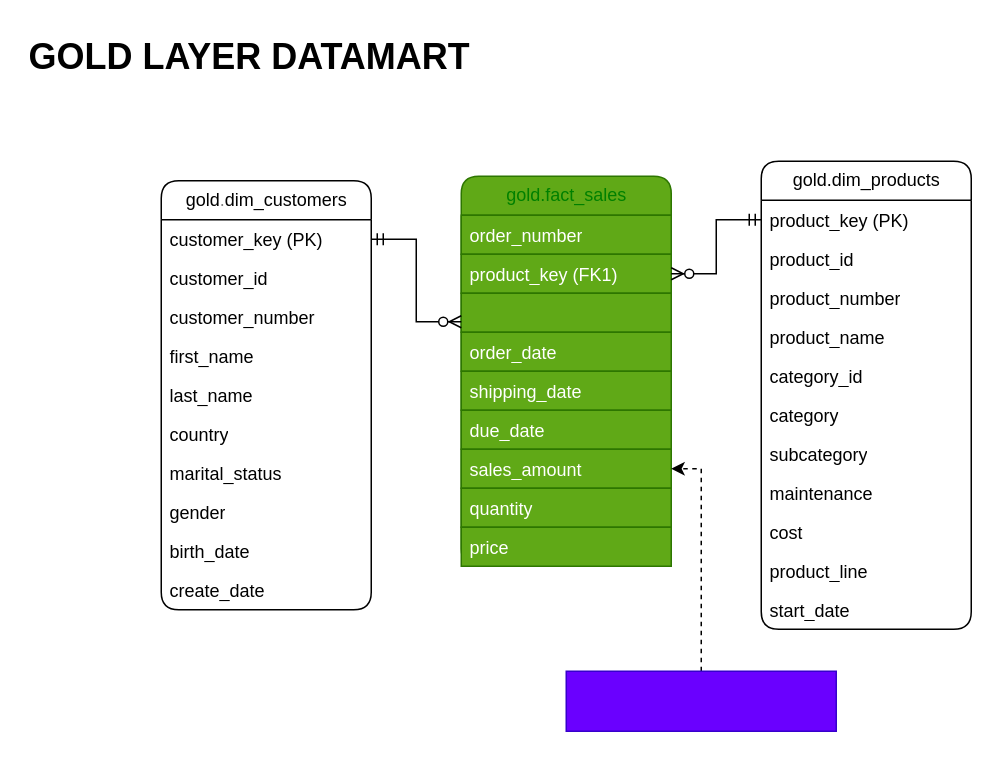
The diagram is 998 pixels wide and 761 high, and some of its shapes have lost their labels. Here are the shapes that lost their labels. From the top down, the centre of each, then its label:
At [565,312]: "customer_key (FK2)".
At [700,700]: "sales=quantity*price".
